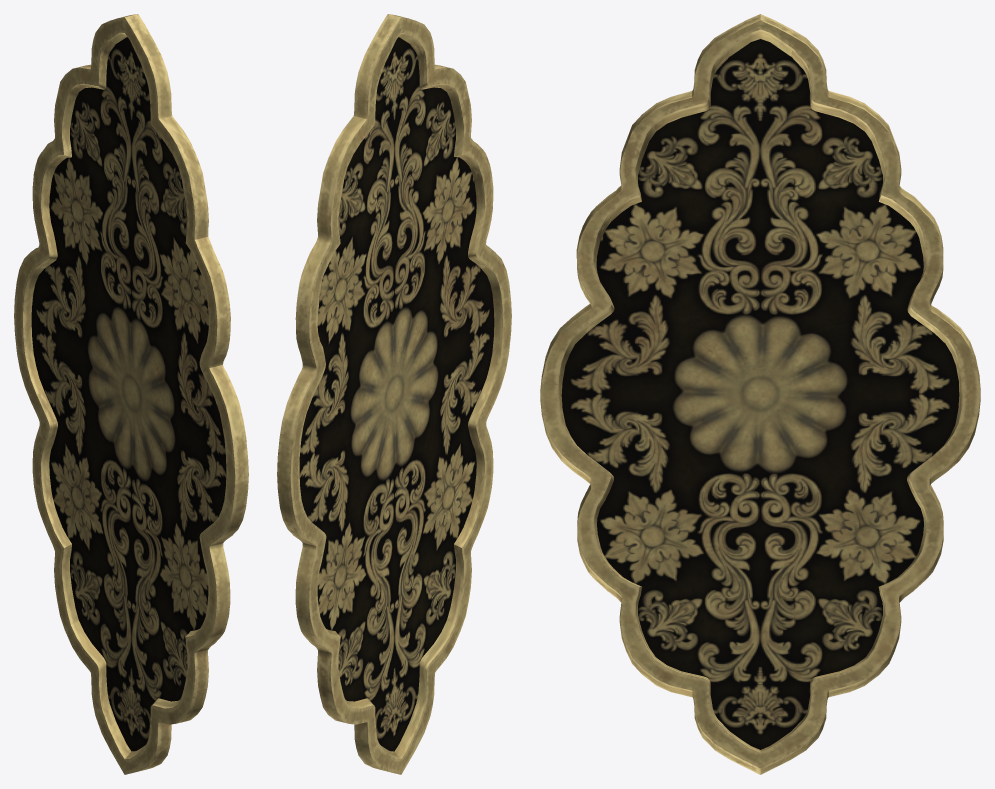
Rendered from SM_MetalPannel.fbx.
3 views of the same model, side by side, from view 1: azimuth 30°, elevation 25°; view 2: azimuth 150°, elevation 25°; view 3: azimuth 270°, elevation 25° (orthographic).
Parts seen in each view (by area): view 1: SM_MetalPannel_LOD0; view 2: SM_MetalPannel_LOD0; view 3: SM_MetalPannel_LOD0.
Part boxes in pixels (left/top/right/bottom): SM_MetalPannel_LOD0: left=14, top=14, right=248, bottom=774; SM_MetalPannel_LOD0: left=277, top=14, right=511, bottom=774; SM_MetalPannel_LOD0: left=540, top=14, right=980, bottom=774.
Bounding box in the file's own units: 2.33 × 58.21 × 110.
